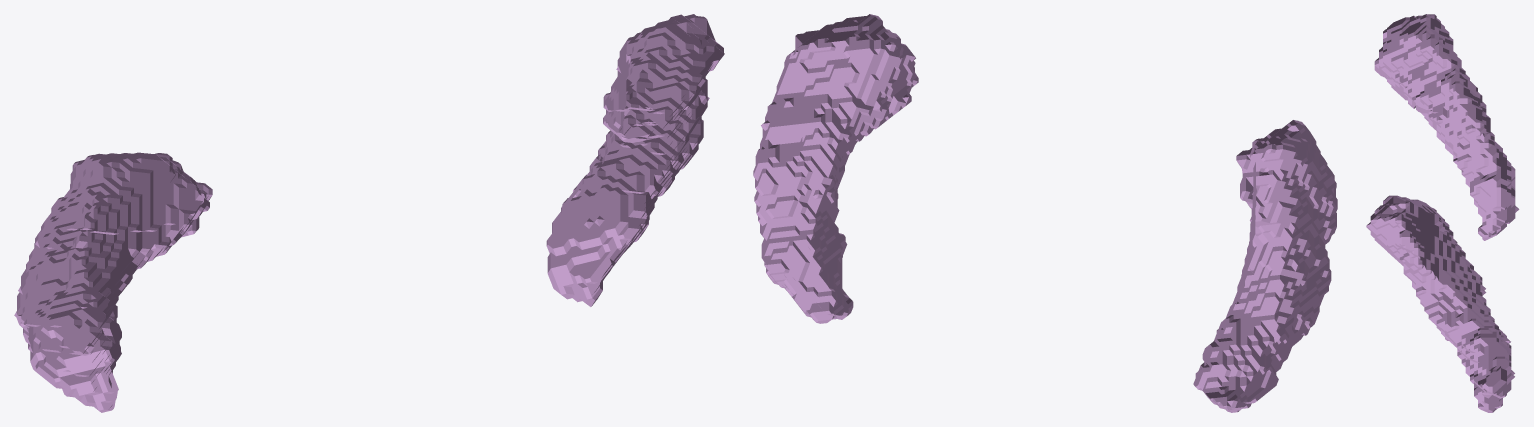
The model's file is region_0152_TSc__central_nucleus_of_semicircular_torus_.glb.
3 views of the same model, side by side, from view 1: azimuth 30°, elevation 25°; view 2: azimuth 150°, elevation 25°; view 3: azimuth 270°, elevation 25° (orthographic). The views are drawn at different scales.
Parts seen in each view (by area): view 1: world; view 2: world; view 3: world.
Boxes of the visible parts, x1,y1,x2,y2 form: world: (14,14,724,412); world: (753,14,1337,412); world: (1366,14,1519,412).
Bounding box in the file's own units: 1.06 × 0.464 × 0.296.
